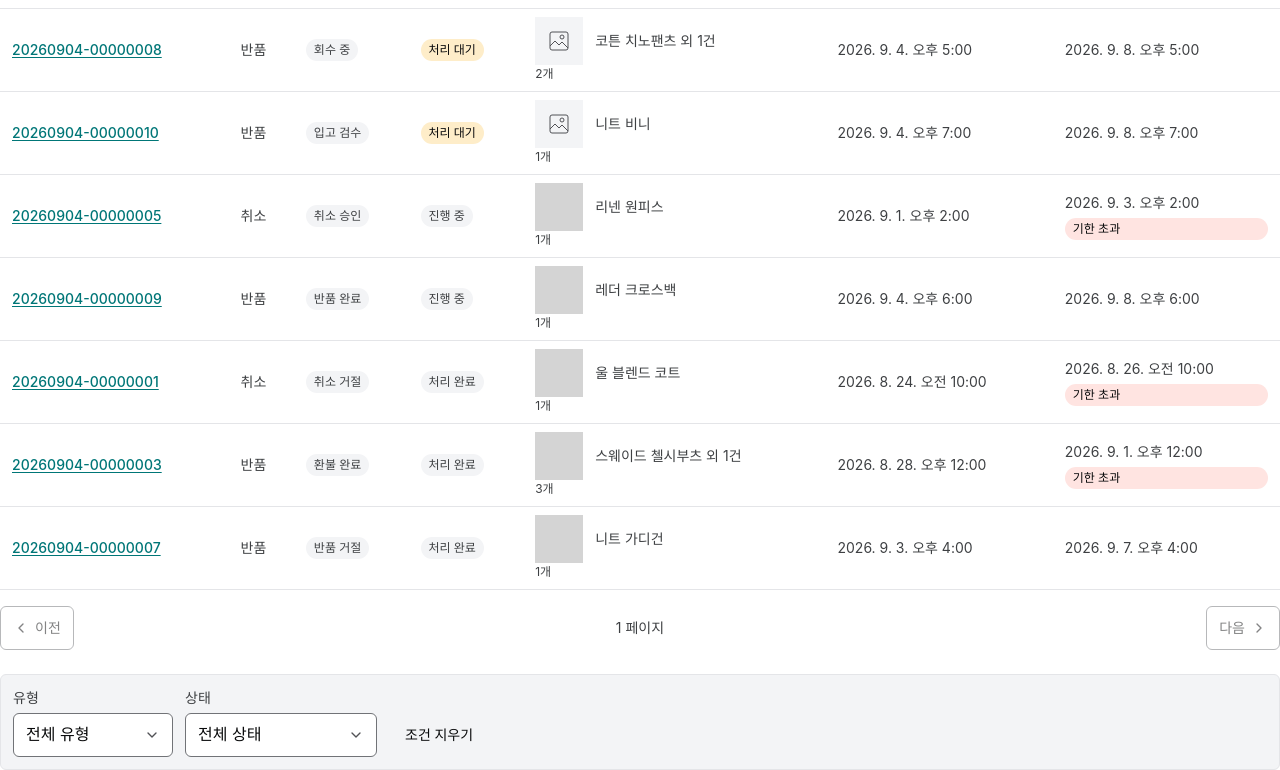
Test case: U1 · P5 — 네 상태 › tells an empty filter from an empty store
(page scrolled)
// 취소이면서 반품 신청인 건은 없다 — 조합이 비는 것이지 가게가 빈 것이 아니다.
Click the dropdown labelled "유형". click: (93, 735)
box: x1=13 y1=713 x2=173 y2=757
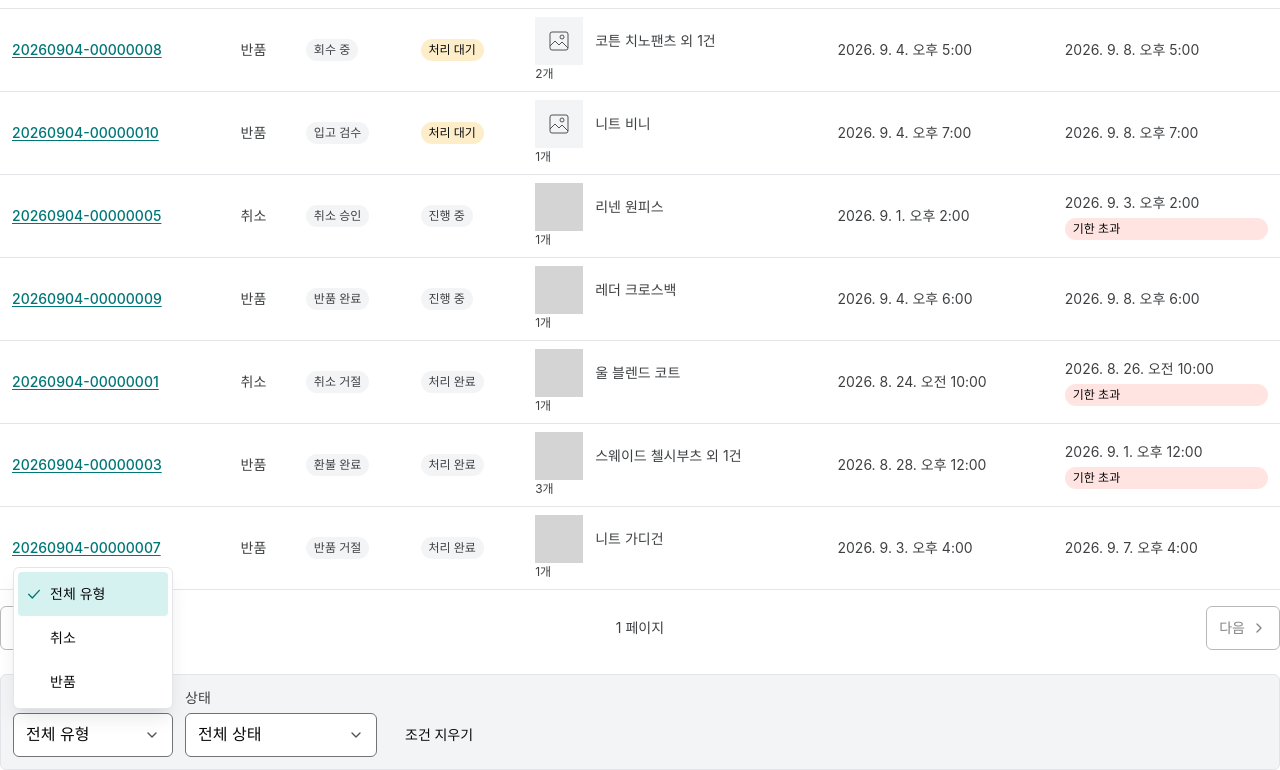
Click the option "취소". click: (63, 637)
box: x1=50 y1=629 x2=76 y2=646
(page scrolled)
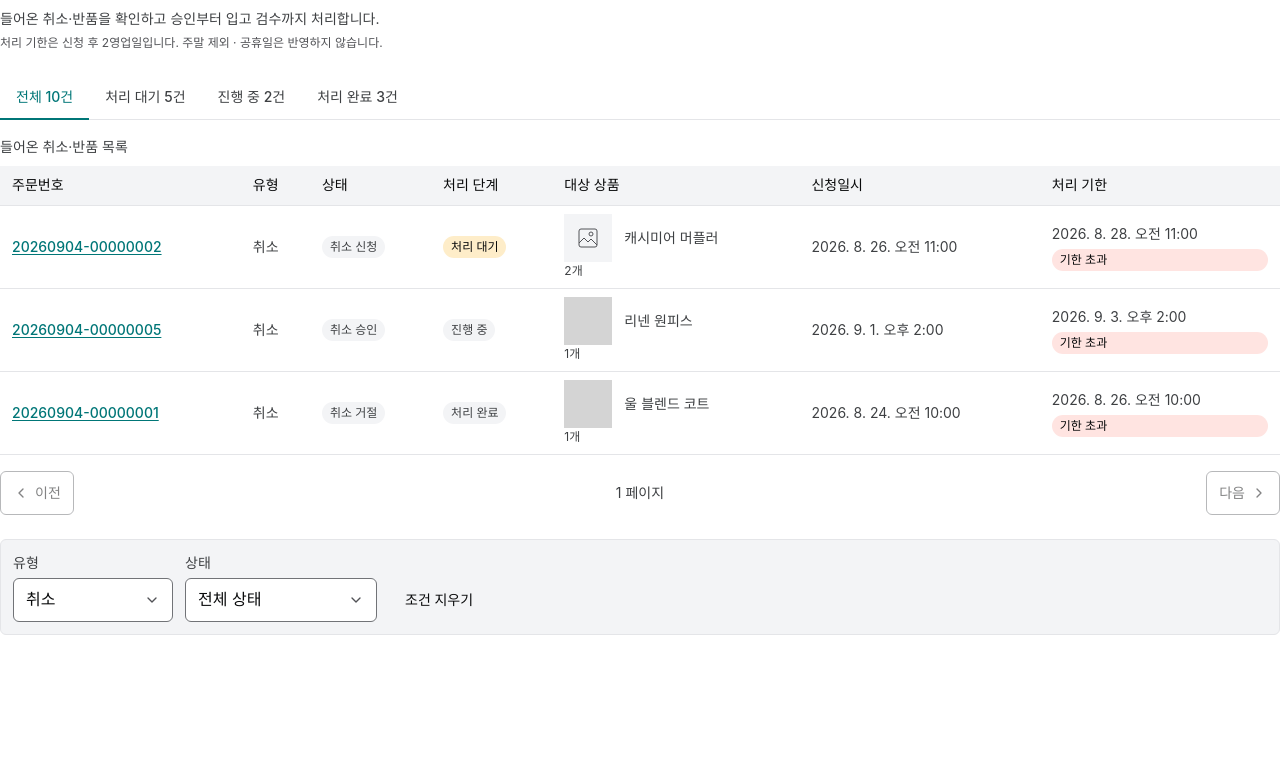
Click the dropdown labelled "상태". click: (281, 600)
box: x1=185 y1=578 x2=377 y2=622
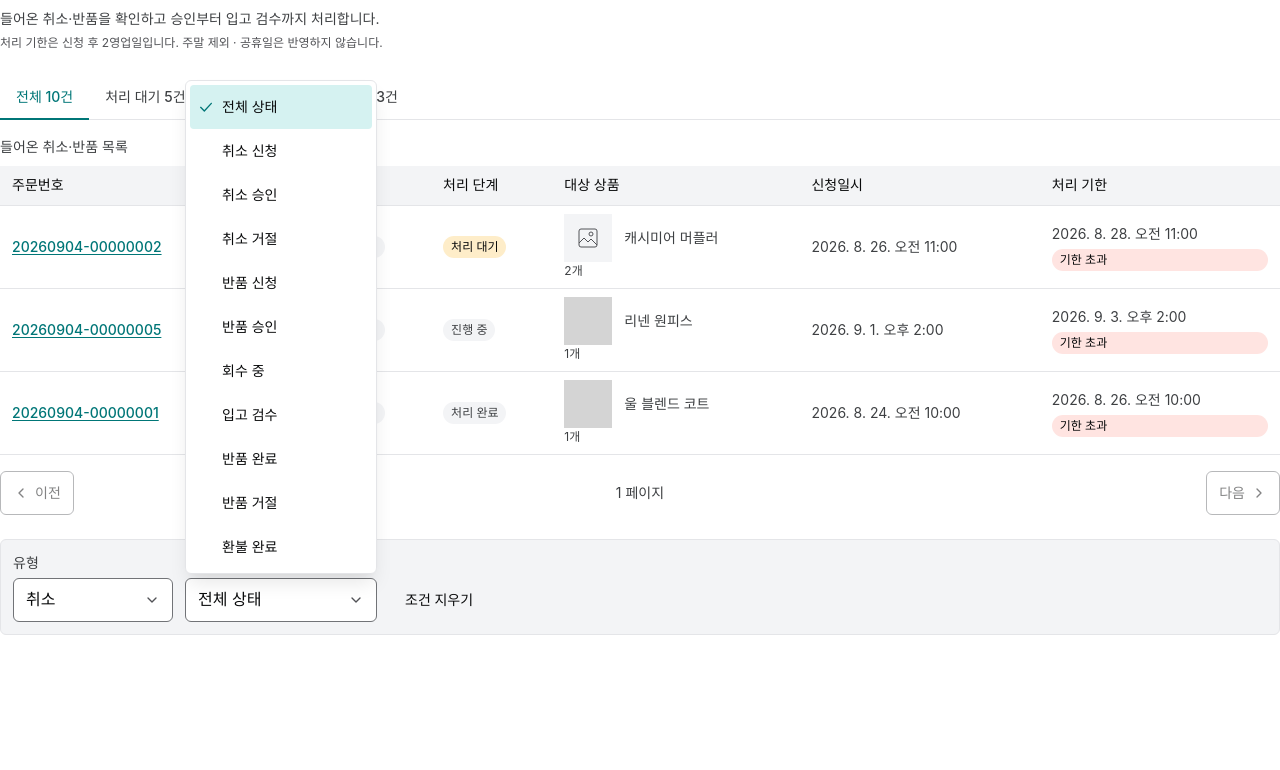
Click the option "반품 신청". click: (250, 282)
box: x1=222 y1=274 x2=278 y2=291
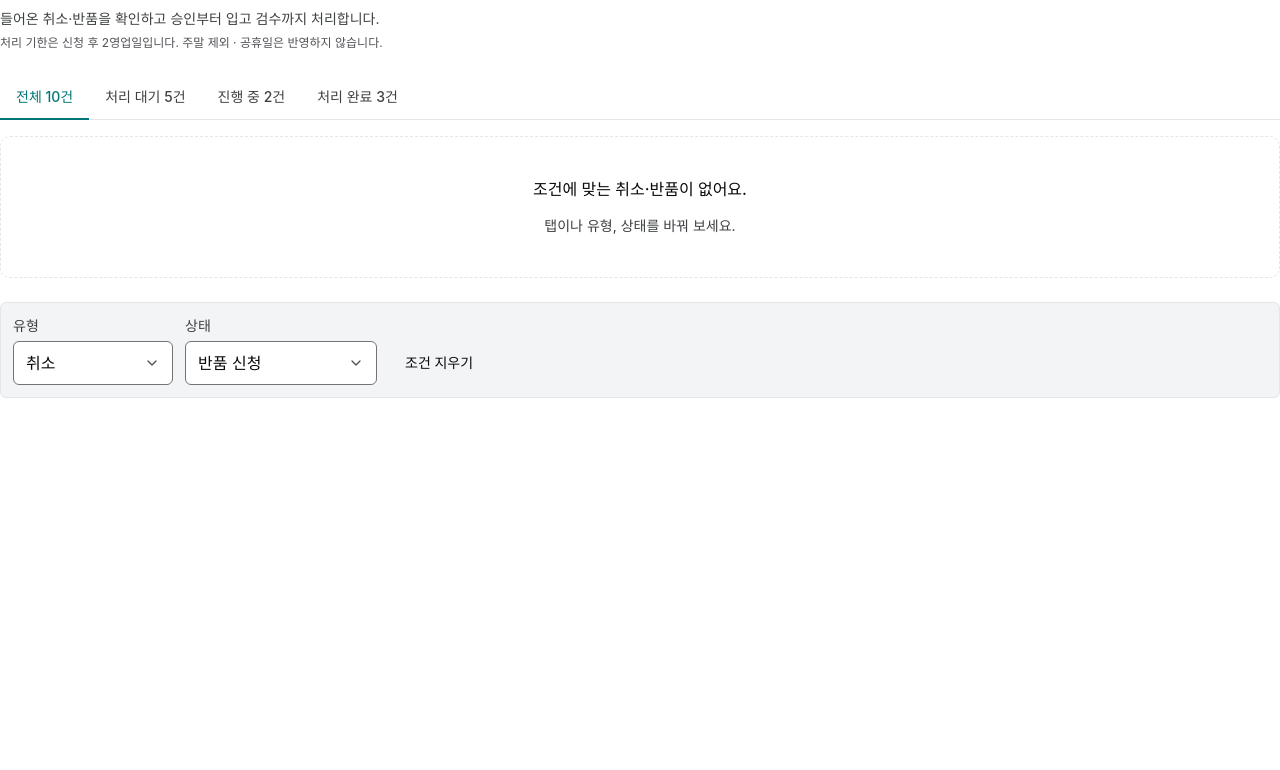
expect the text "조건에 맞는 취소·반품이 없어요." is shown: met, box x1=533 y1=177 x2=747 y2=203
